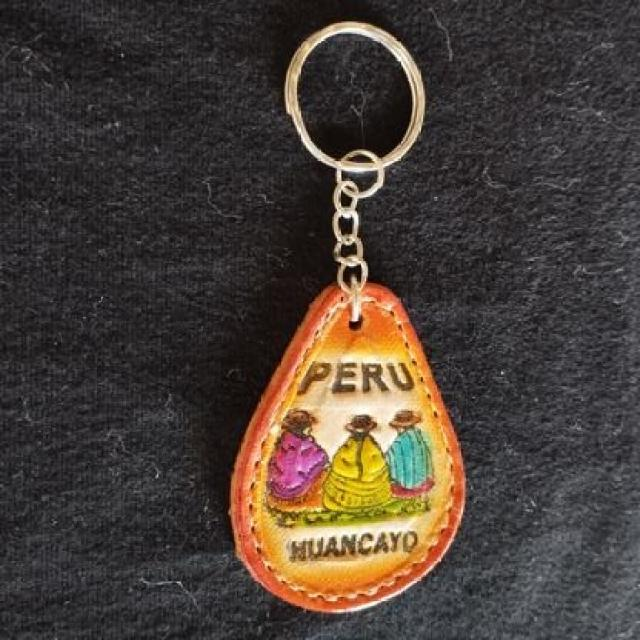Llavero: (227, 279, 467, 613)
